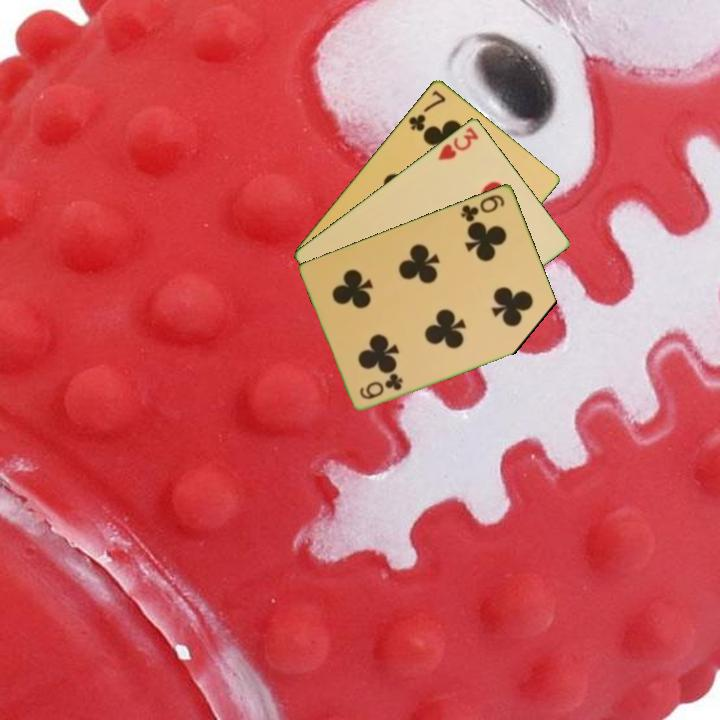3h: (434, 123, 482, 163)
6c: (457, 191, 508, 224), (356, 371, 406, 402)
7c: (405, 86, 449, 134)
